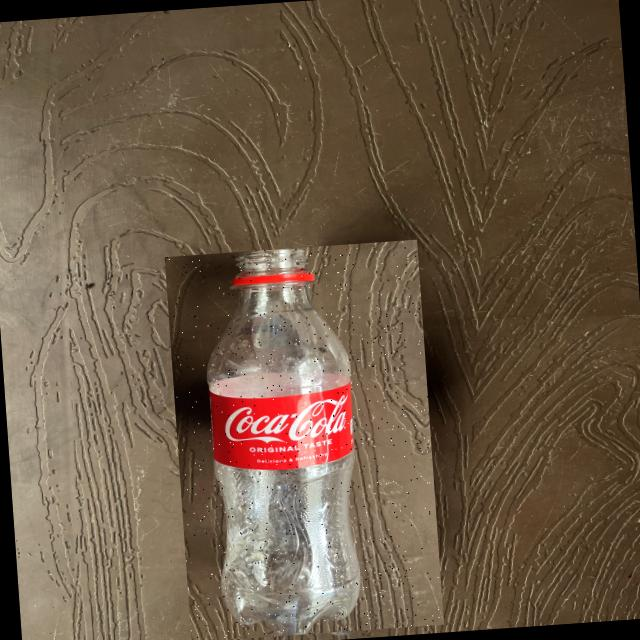REJECT: (164, 239, 443, 640)
